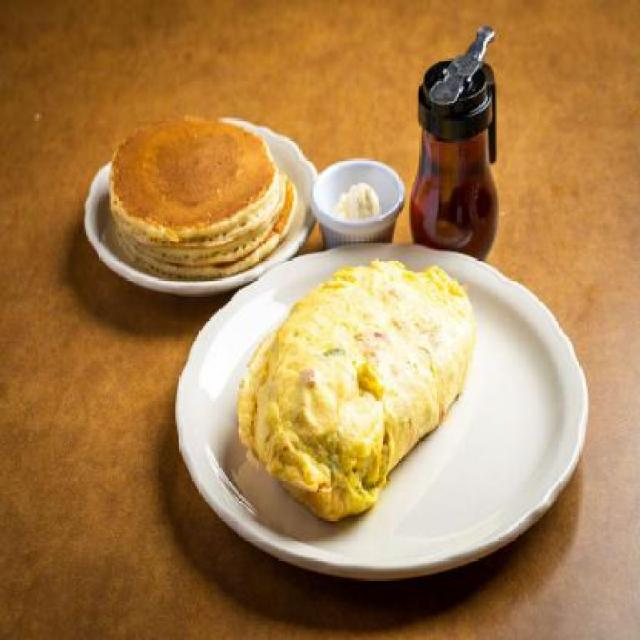ice cream: (330, 180, 384, 226)
omelette: (228, 250, 480, 524)
pancakes: (108, 107, 295, 279)
